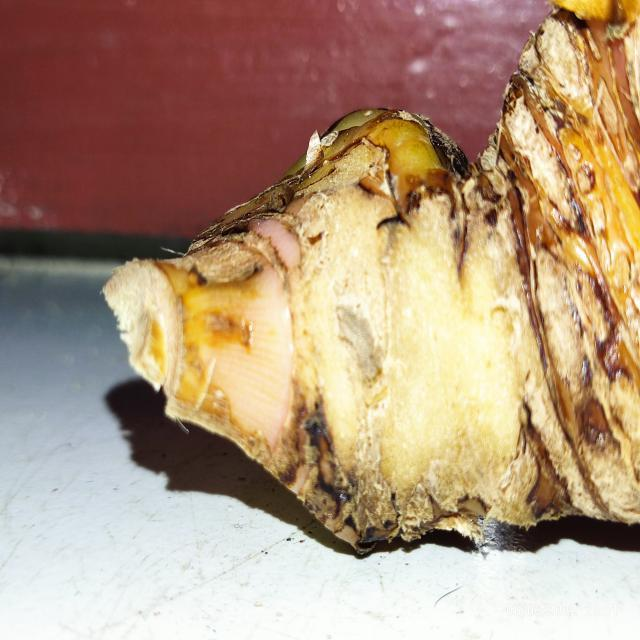ginger: (117, 9, 640, 524)
